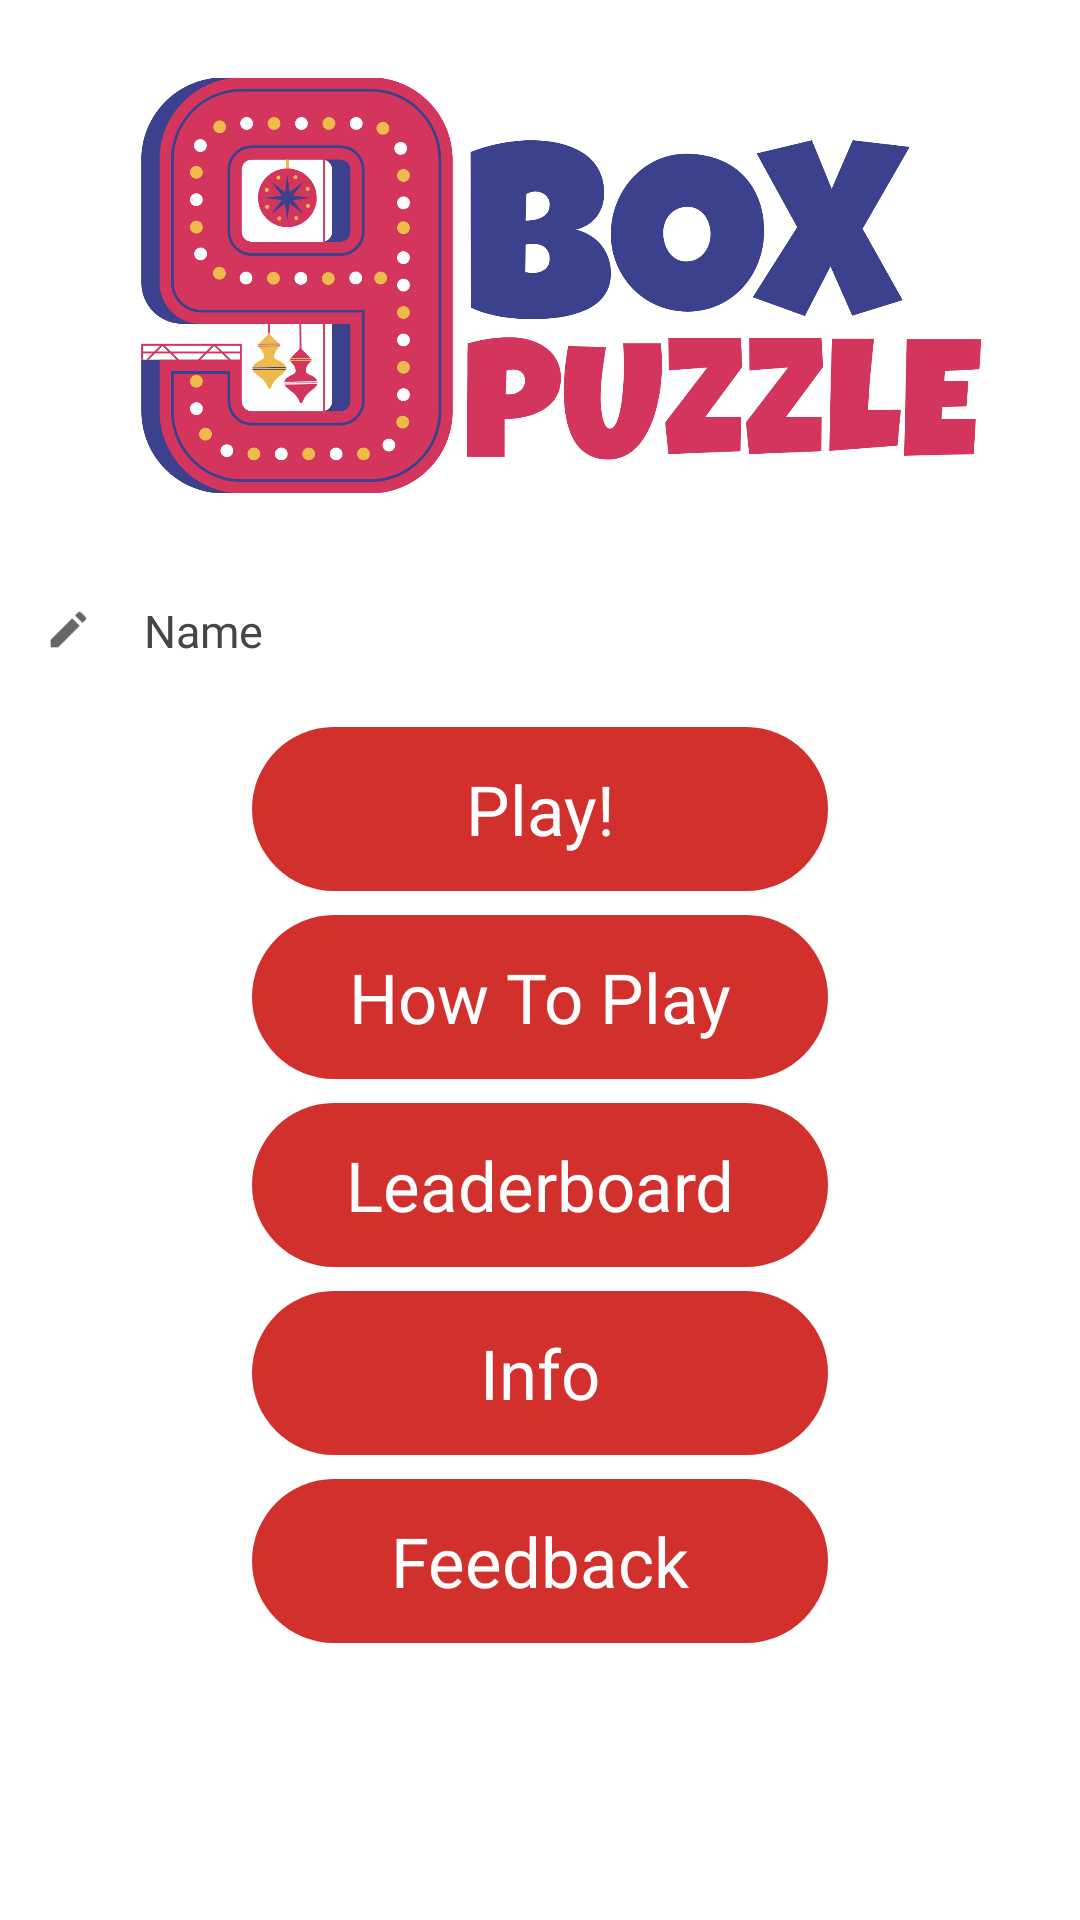

Where to tap for icons on this 1080w x 1920h app screen, as point (x, y):
greyedit: point (68, 629)
